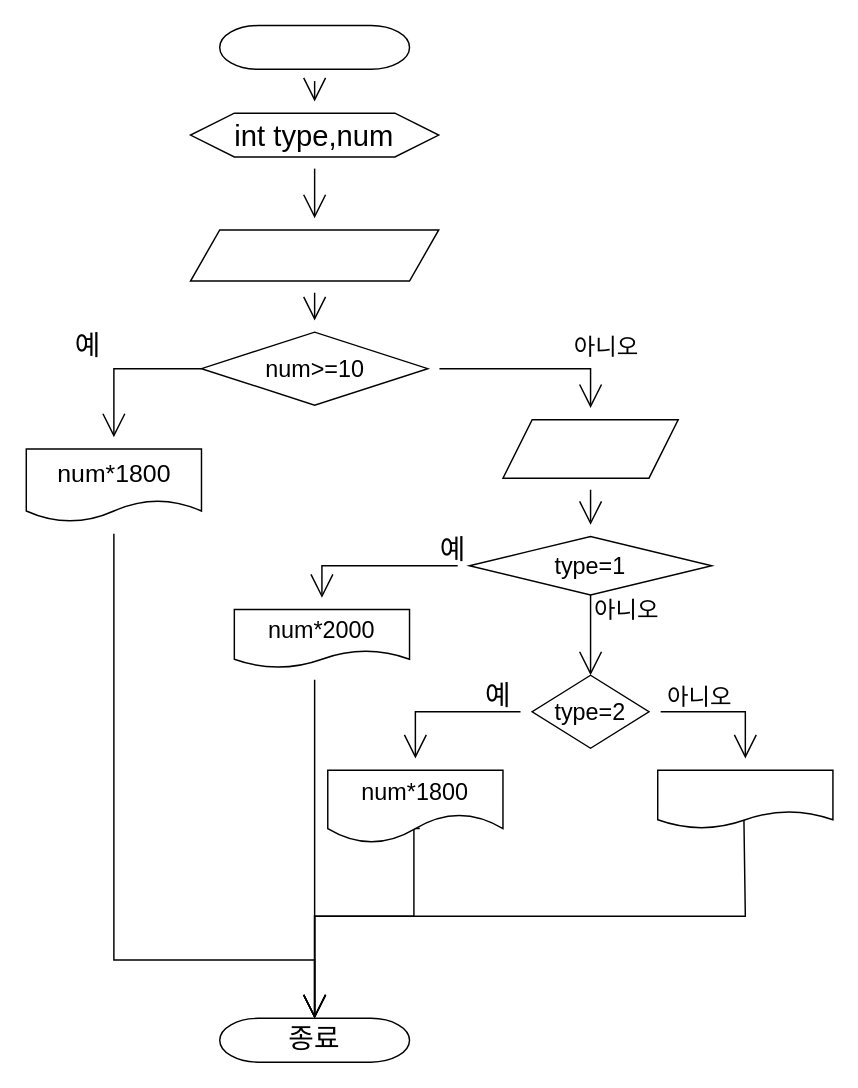
This 858x1088 diagram has some shape labels left out. Each missing label, with the centre of its shape:
"num 입력" goes at point (314, 254).
"type입력" goes at point (590, 448).
"시작" goes at point (314, 46).
"잘못입력했습니다." goes at point (744, 799).
